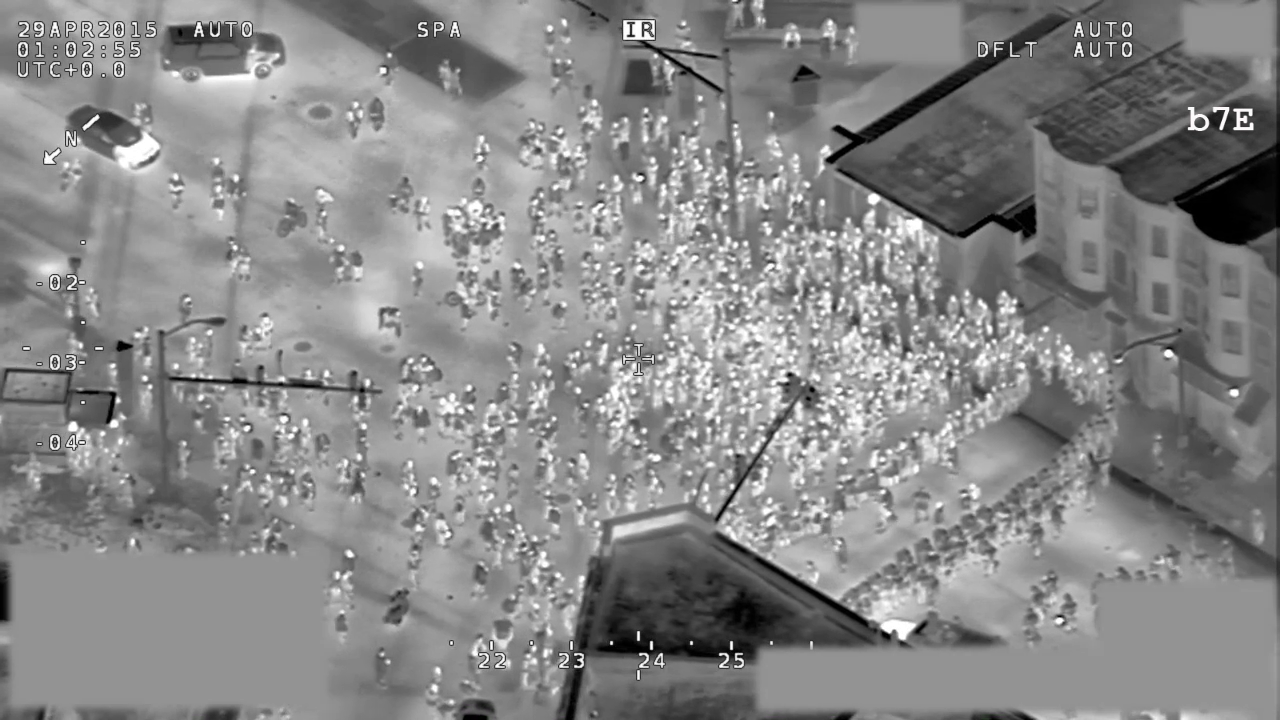vehicle: (155, 19, 291, 86), (60, 101, 165, 172)
